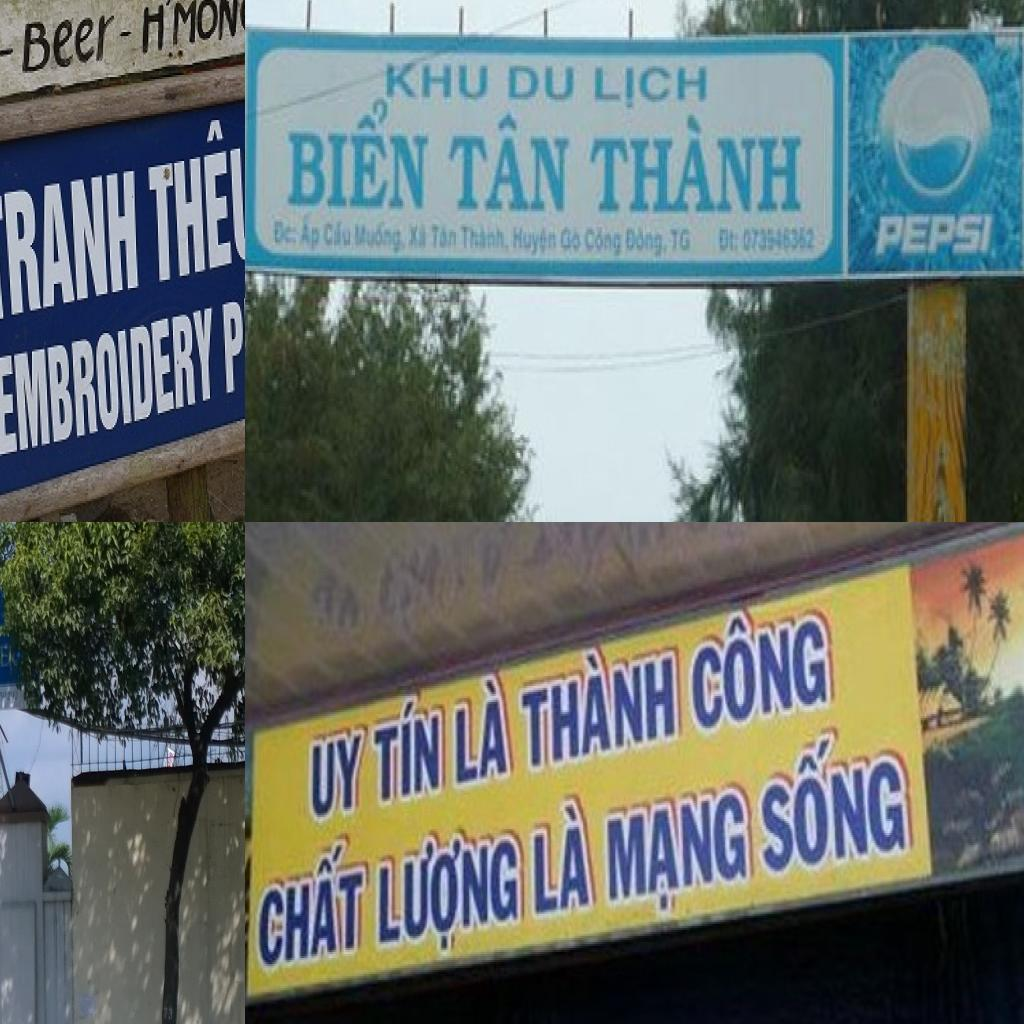text: (0, 308, 214, 457), (757, 722, 908, 880), (585, 112, 811, 216), (520, 634, 679, 774), (0, 171, 140, 324), (377, 817, 520, 966), (604, 787, 750, 926), (688, 596, 831, 736), (282, 99, 438, 214), (144, 116, 245, 286), (443, 110, 576, 222), (373, 692, 444, 807), (532, 793, 593, 920), (454, 672, 511, 791), (140, 0, 245, 60), (593, 63, 712, 113), (310, 726, 367, 827), (21, 14, 118, 73), (380, 58, 492, 102), (506, 60, 578, 108), (742, 219, 818, 258), (352, 219, 408, 258), (512, 222, 561, 263), (460, 219, 512, 256), (624, 222, 670, 260), (582, 222, 622, 260), (322, 211, 354, 253), (299, 211, 323, 258), (270, 216, 299, 253), (430, 219, 459, 256), (715, 222, 741, 263), (560, 222, 584, 260), (410, 214, 430, 255), (668, 224, 692, 258), (0, 641, 11, 673), (0, 689, 19, 705), (163, 1004, 174, 1024), (0, 46, 15, 60), (118, 28, 133, 40)
